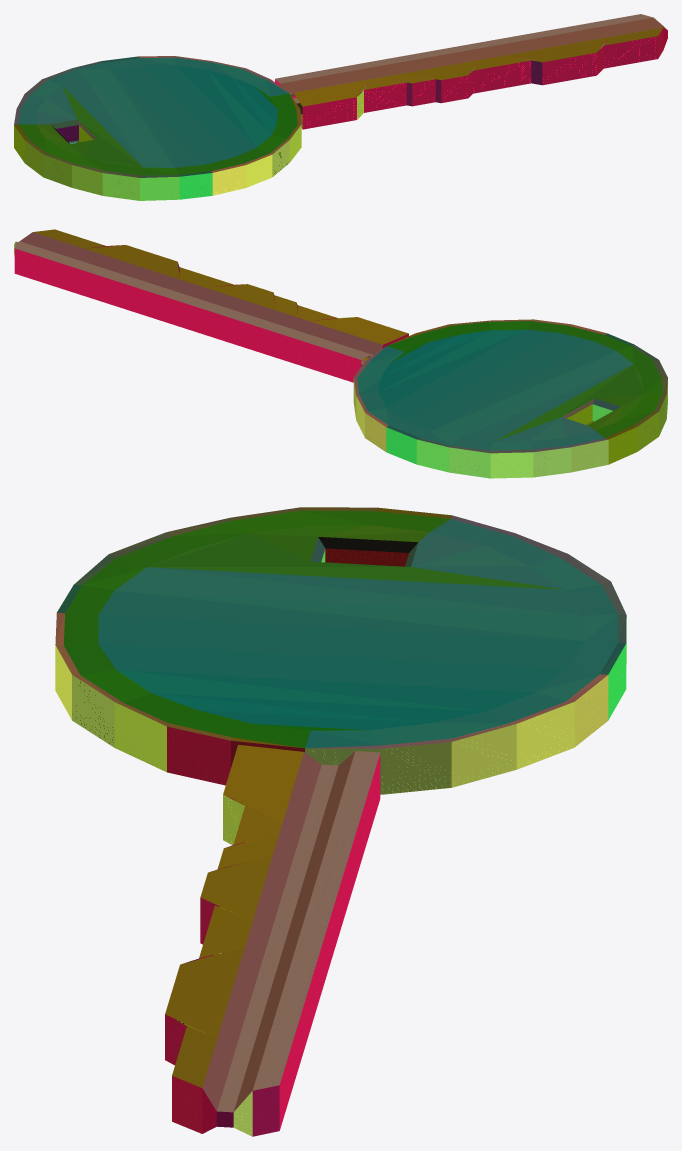
Rendered from primary_008.glb.
The picture shows the model from 3 angles, top to bottom: view 1: azimuth 30°, elevation 25°; view 2: azimuth 150°, elevation 25°; view 3: azimuth 270°, elevation 25°; orthographic projection. The views are drawn at different scales.
Visible parts, largest first — view 1: Object; view 2: Object; view 3: Object.
Boxes of the visible parts, x1,y1,x2,y2 form: Object: (14, 14, 667, 200); Object: (14, 229, 667, 478); Object: (55, 507, 626, 1136).
Bounding box in the file's own units: 0.2805 × 0.0102 × 0.1147.
Materials: 197 (197 with a texture image).
